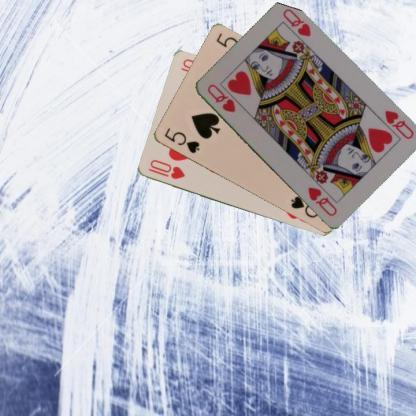10h: (145, 156, 186, 181)
5s: (161, 125, 201, 155)
Qh: (381, 108, 415, 140), (204, 81, 236, 114)
